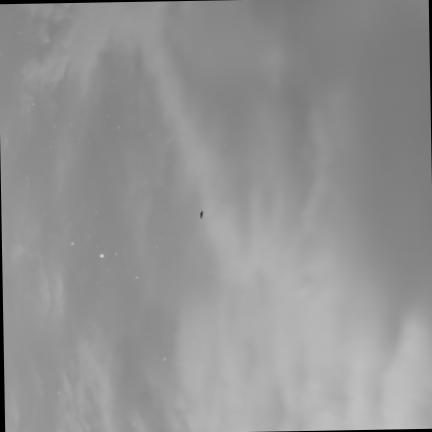Shahed: (199, 211, 202, 218)
